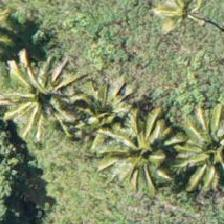coconut_tree: (85, 108, 175, 198), (0, 53, 89, 143), (158, 112, 223, 202)
